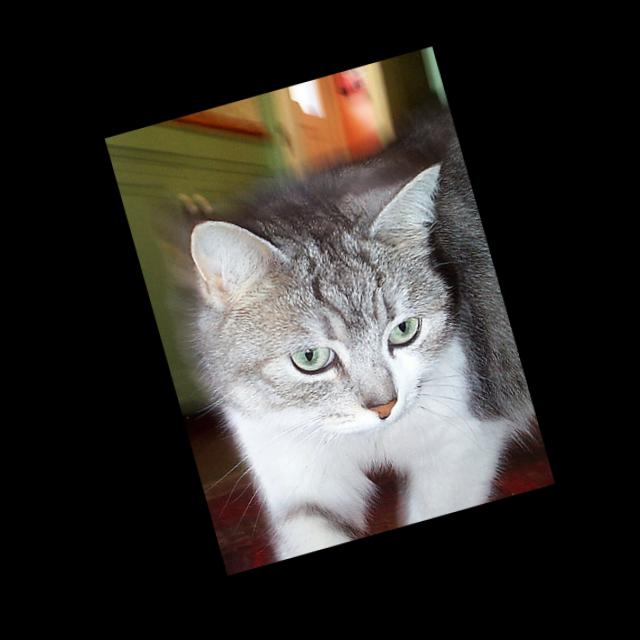animals: (185, 159, 499, 458)
